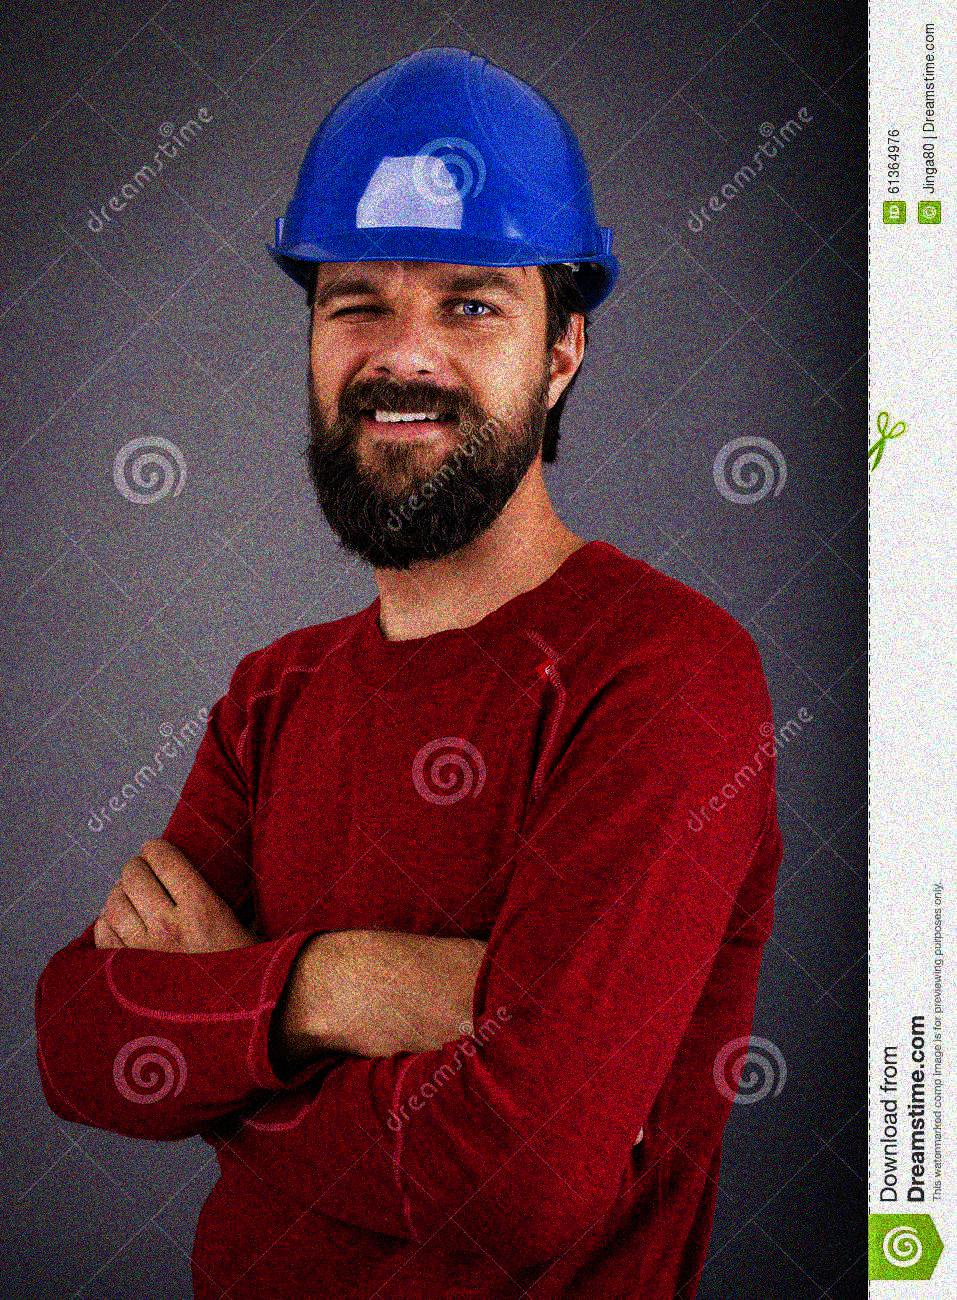helmet: (276, 47, 613, 531)
